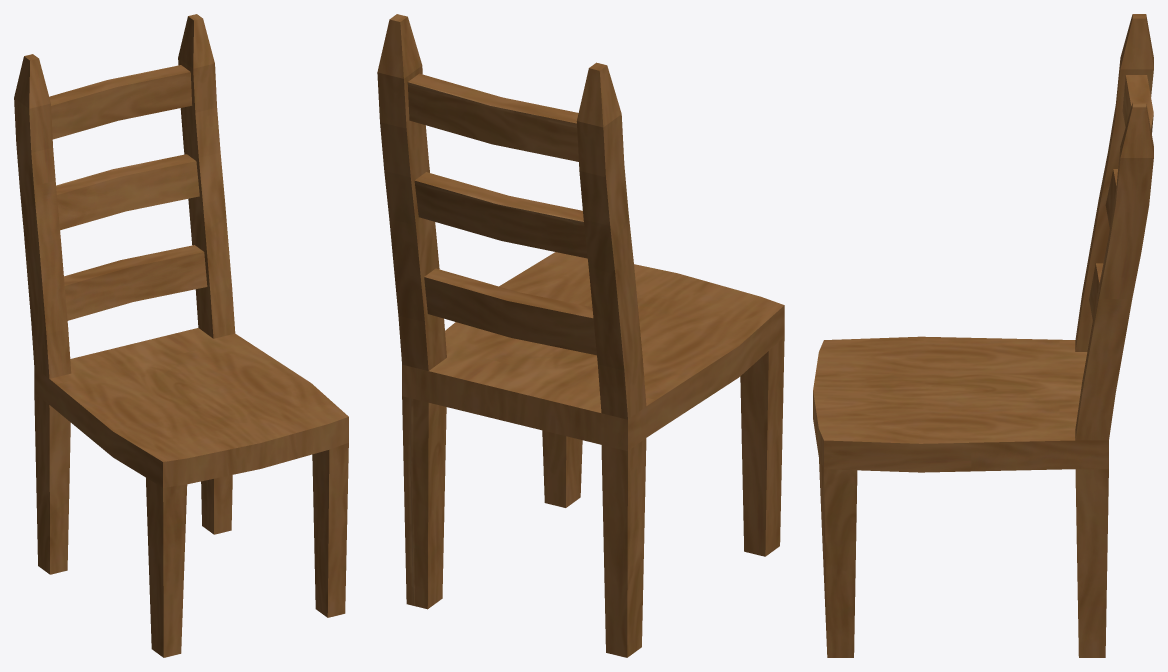
The model's file is Wooden Chair.FBX.
3 renders of one model, left to right at view 1: azimuth 30°, elevation 25°; view 2: azimuth 150°, elevation 25°; view 3: azimuth 270°, elevation 25°, orthographic. The views are drawn at different scales.
Visible parts, largest first — view 1: Box001; view 2: Box001; view 3: Box001.
Part boxes in pixels (x1,y1,x2,y2): Box001: (14, 14, 348, 657); Box001: (377, 14, 784, 657); Box001: (813, 14, 1153, 657).
Bounding box in the file's own units: 78.4 × 187 × 105.
Materials: 1 (1 with a texture image).
